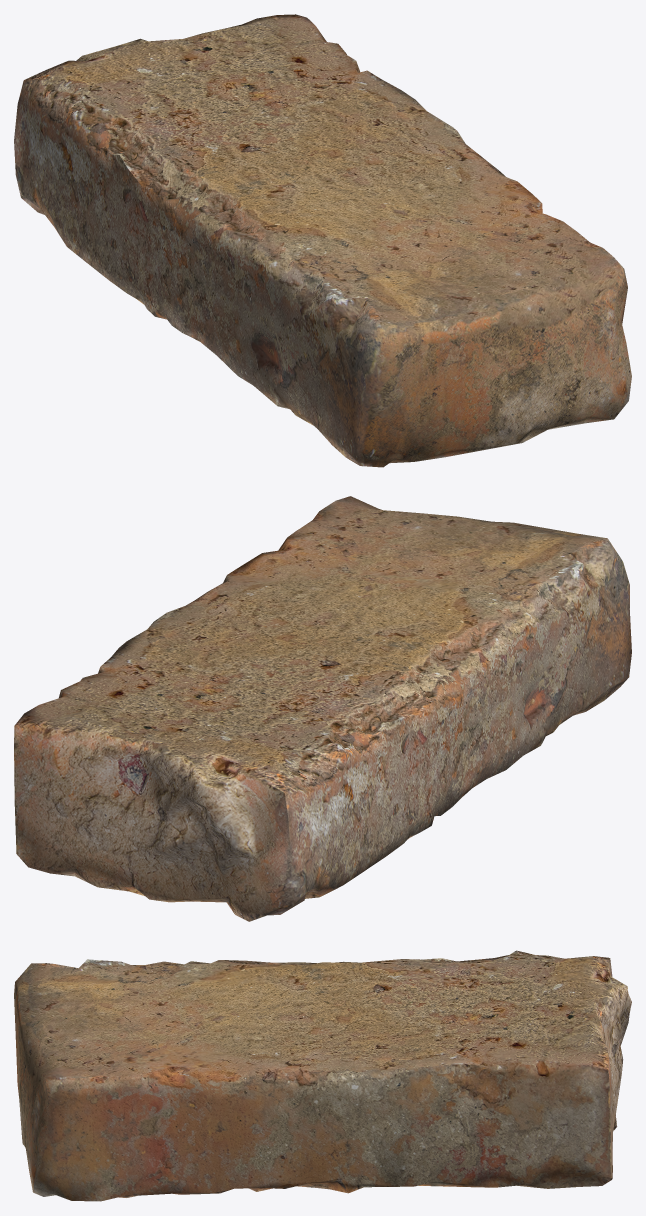
File: sm_Brick_06_01.fbx
The picture shows the model from 3 angles, top to bottom: view 1: azimuth 30°, elevation 25°; view 2: azimuth 150°, elevation 25°; view 3: azimuth 270°, elevation 25°; orthographic projection. The views are drawn at different scales.
Visible parts, largest first — view 1: sm_Brick_06_01_LOD0; view 2: sm_Brick_06_01_LOD0; view 3: sm_Brick_06_01_LOD0.
Boxes of the visible parts, bbox=[...] form: sm_Brick_06_01_LOD0: bbox=[14, 14, 631, 467]; sm_Brick_06_01_LOD0: bbox=[14, 496, 631, 921]; sm_Brick_06_01_LOD0: bbox=[14, 950, 631, 1201].
Size of the model in its own units: 12.76 by 27.29 by 7.03.
